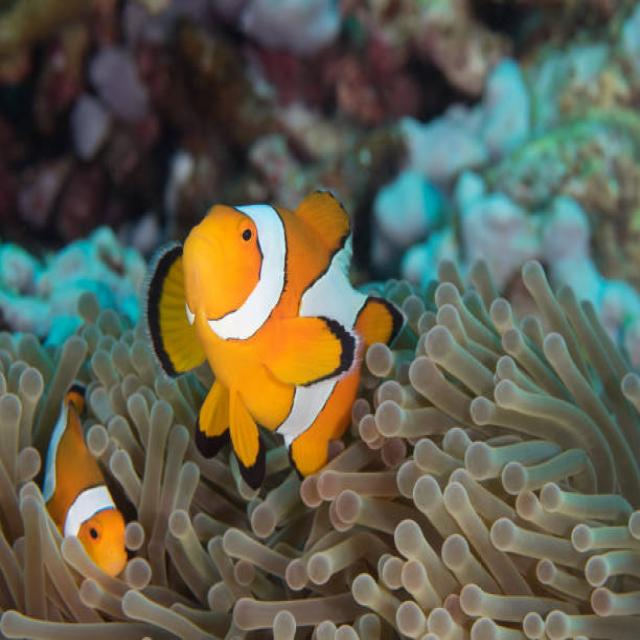ClownFish: (152, 184, 407, 483), (48, 386, 126, 575)
